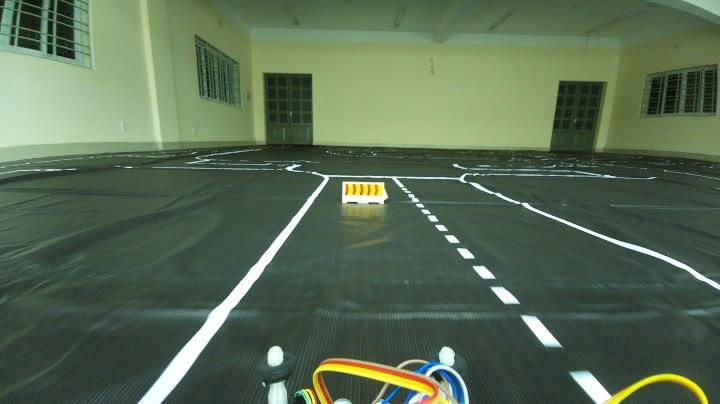roadblock: (338, 178, 392, 210)
